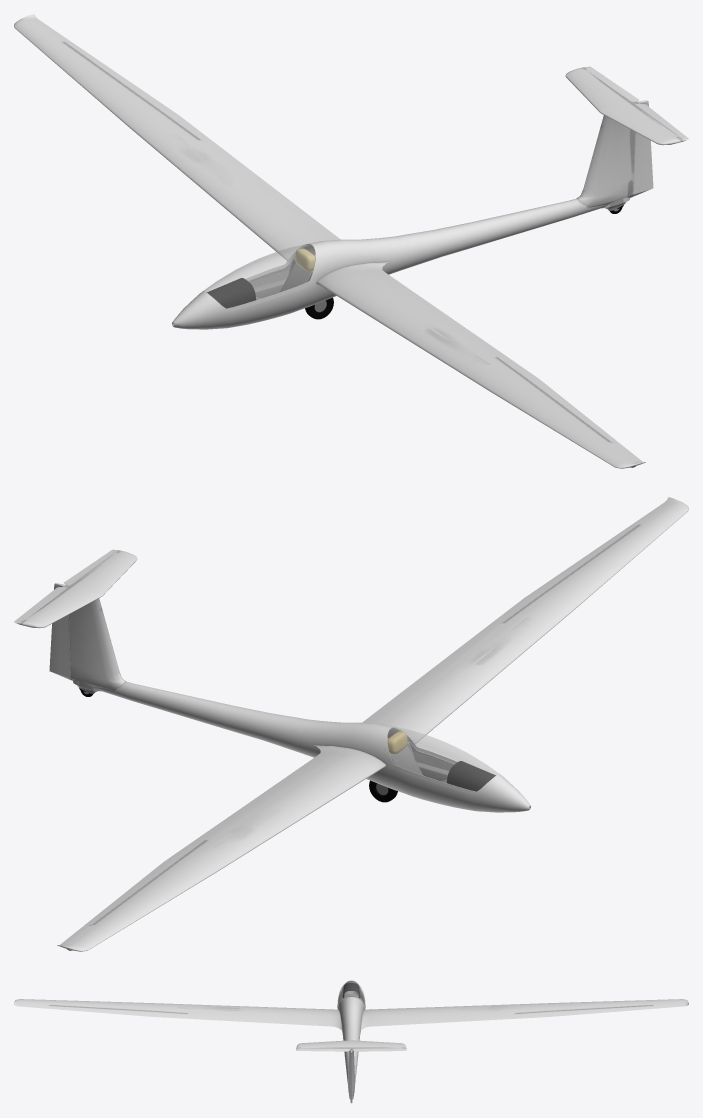
The picture shows the model from 3 angles, top to bottom: view 1: azimuth 30°, elevation 25°; view 2: azimuth 150°, elevation 25°; view 3: azimuth 270°, elevation 25°; orthographic projection. The views are drawn at different scales.
Visible parts, largest first — view 1: wing, fuselage, canopy, canopy.int, vstab, hstab, rudder, aileronR, aileronL, paneltop, canopyframe, elevator; view 2: wing, fuselage, canopy, canopy.int, vstab, hstab, rudder, aileronL, aileronR, paneltop, canopyframe, elevator; view 3: wing, fuselage, hstab, aileronL, aileronR, elevator, canopy, canopy.int.
Part boxes in pixels (<box>): wing: <box>14,14,645,468</box>; fuselage: <box>172,198,608,329</box>; canopy: <box>204,244,314,307</box>; canopy.int: <box>204,245,314,307</box>; vstab: <box>576,115,633,207</box>; hstab: <box>565,67,682,145</box>; rudder: <box>630,100,653,197</box>; aileronR: <box>64,41,211,140</box>; aileronL: <box>497,357,617,442</box>; paneltop: <box>207,278,255,308</box>; canopyframe: <box>202,243,319,311</box>; elevator: <box>583,66,688,141</box>; wing: <box>57,497,688,951</box>; fuselage: <box>94,681,530,812</box>; canopy: <box>388,727,498,790</box>; canopy.int: <box>388,728,498,790</box>; vstab: <box>69,598,126,690</box>; hstab: <box>20,550,137,628</box>; rudder: <box>49,583,72,680</box>; aileronL: <box>491,524,638,623</box>; aileronR: <box>85,840,204,925</box>; paneltop: <box>447,761,495,791</box>; canopyframe: <box>383,726,500,794</box>; elevator: <box>14,549,119,624</box>; wing: <box>14,999,688,1030</box>; fuselage: <box>337,998,365,1081</box>; hstab: <box>296,1040,406,1048</box>; aileronL: <box>49,1005,187,1018</box>; aileronR: <box>515,1005,653,1018</box>; elevator: <box>296,1048,406,1051</box>; canopy: <box>338,981,364,1004</box>; canopy.int: <box>338,981,364,1003</box>.
Size of the model in its own units: 6.81 by 1.89 by 15.
Materials: 3 (2 with a texture image).
